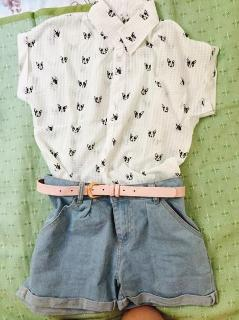short sleeve top: (17, 0, 220, 220)
shorts: (16, 174, 220, 315)
